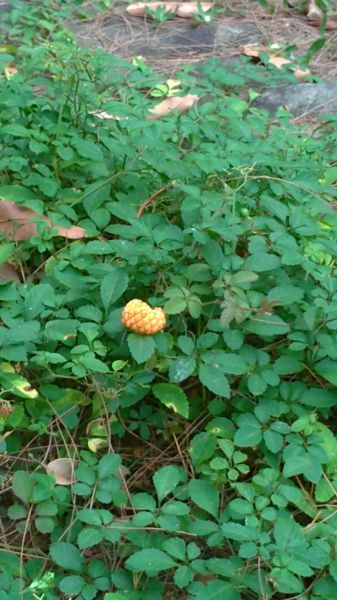eggs: (118, 292, 174, 341)
